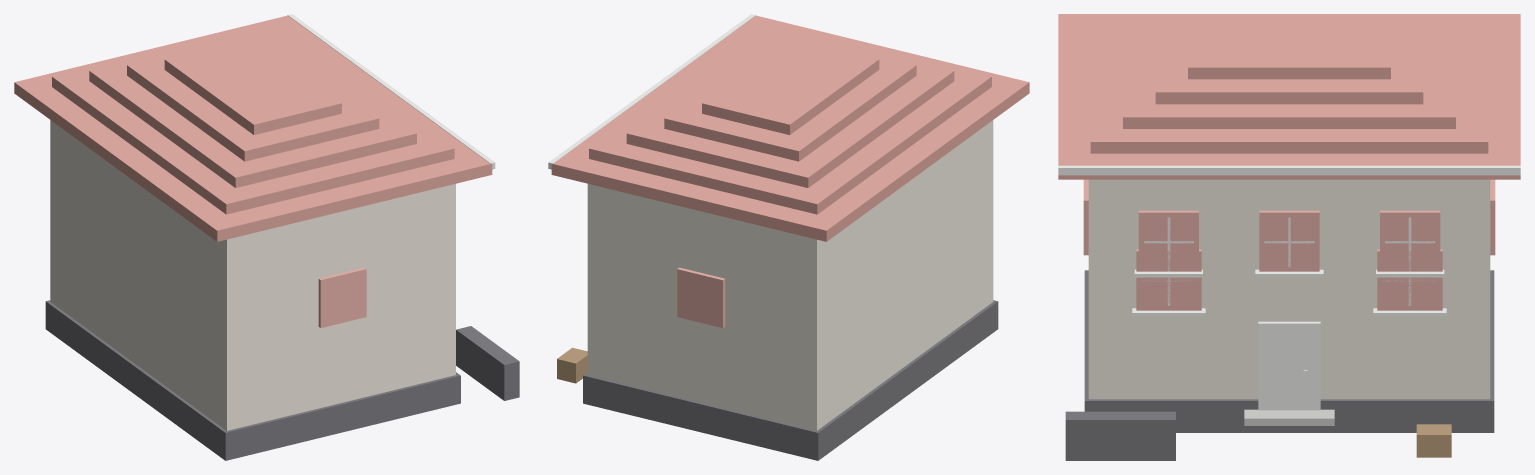
The model's file is House_B.fbx.
3 renders of one model, left to right at view 1: azimuth 30°, elevation 25°; view 2: azimuth 150°, elevation 25°; view 3: azimuth 270°, elevation 25°, orthographic. The views are drawn at different scales.
Parts seen in each view (by area): view 1: House_B; view 2: House_B; view 3: House_B.
Part boxes in pixels (<box>): House_B: <box>14,14,519,460</box>; House_B: <box>548,14,1029,460</box>; House_B: <box>1058,14,1520,460</box>.
Bounding box in the file's own units: 8 × 7.13 × 9.2.
